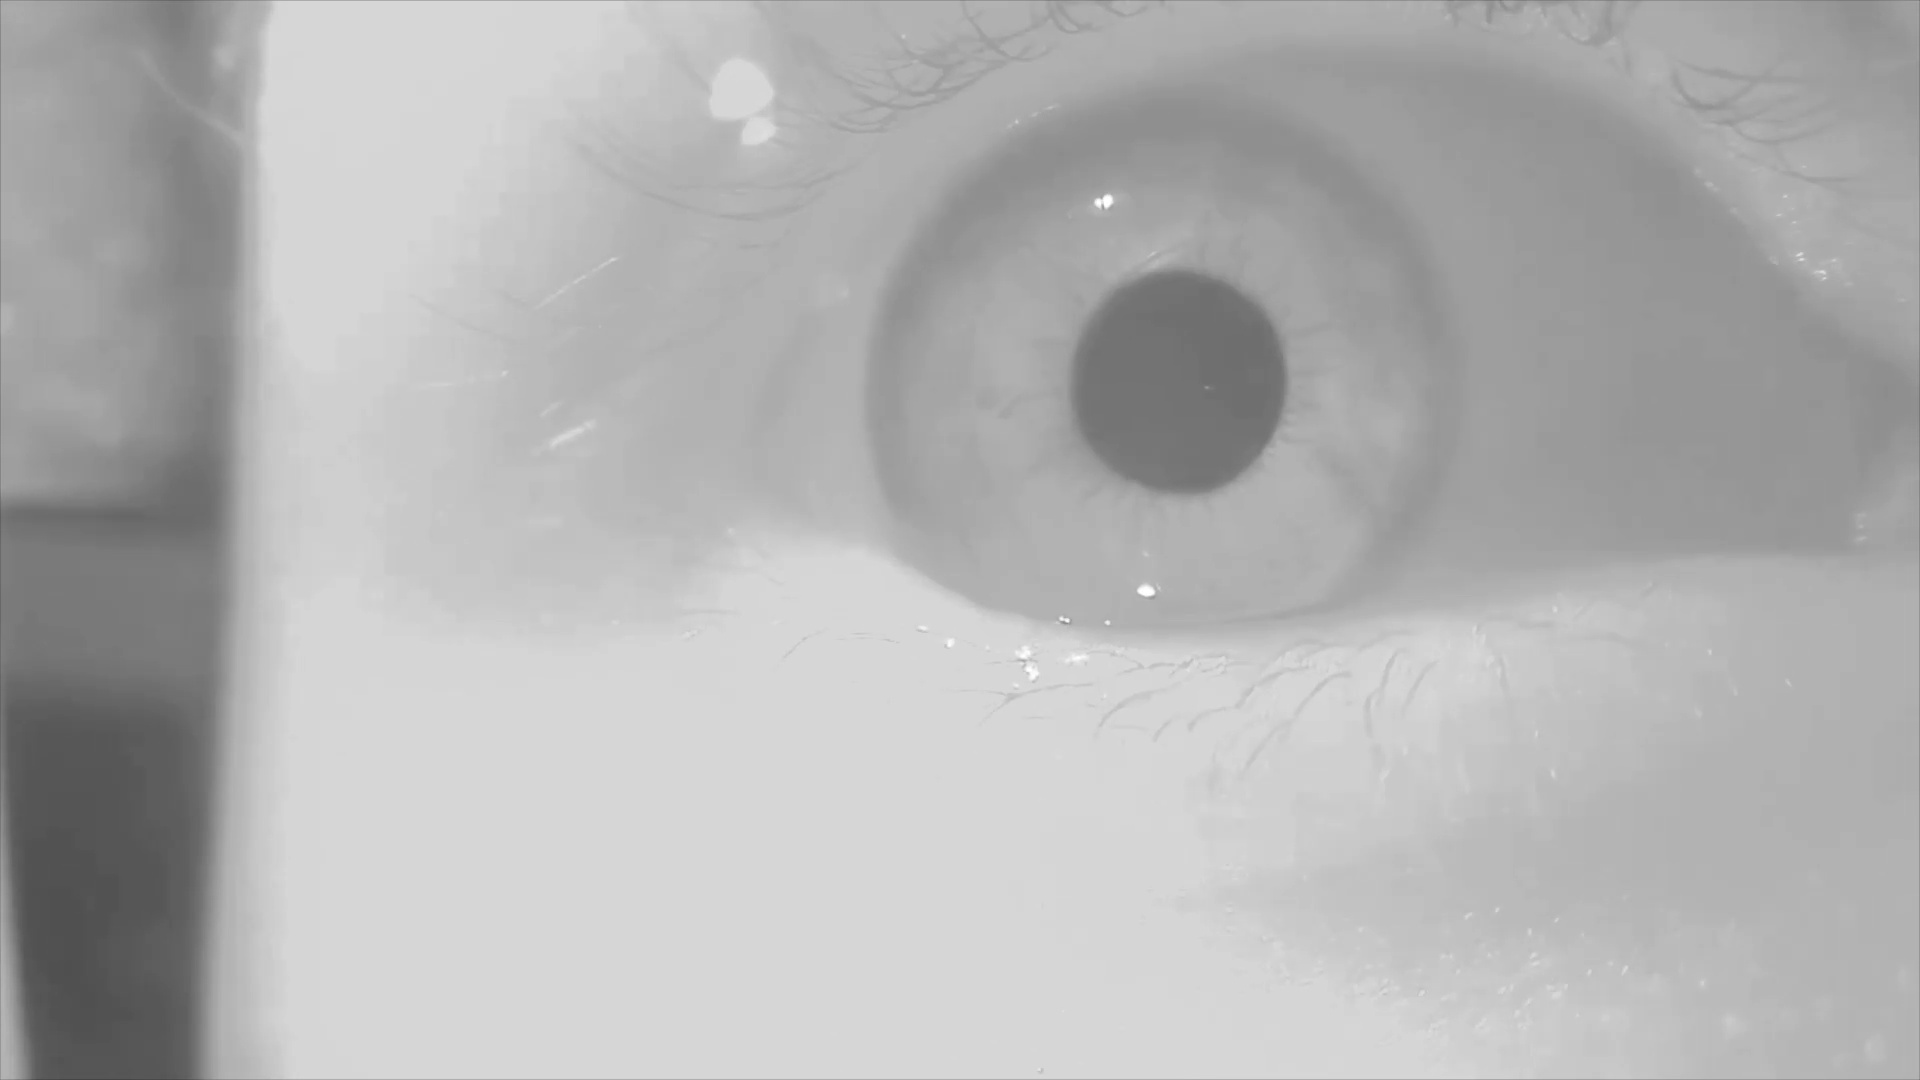pupil: (1073, 273, 1286, 497)
